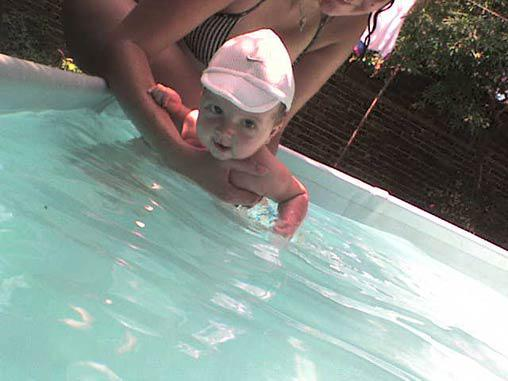human: (144, 59, 312, 244)
